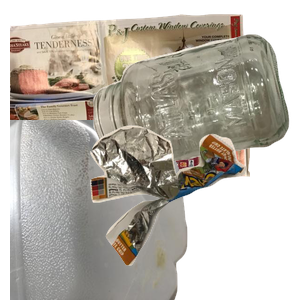glass: (91, 32, 300, 189)
paper: (10, 11, 250, 180)
plastic: (10, 120, 190, 300)
trash: (88, 123, 300, 300)
